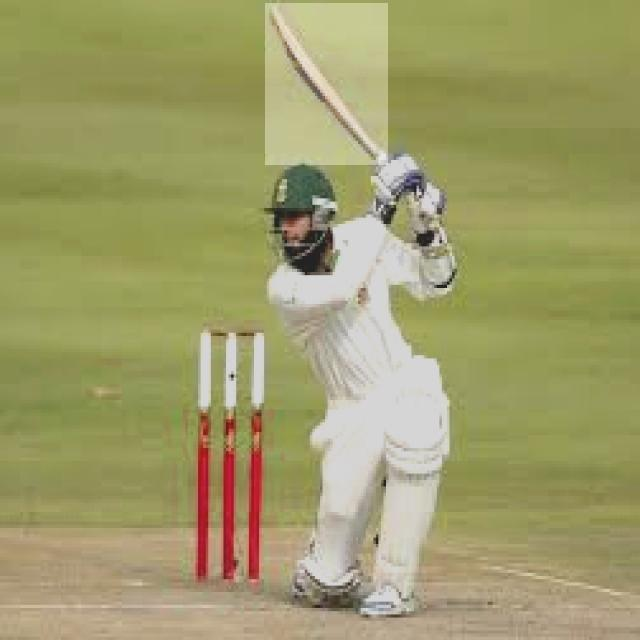bat: (265, 1, 386, 164)
